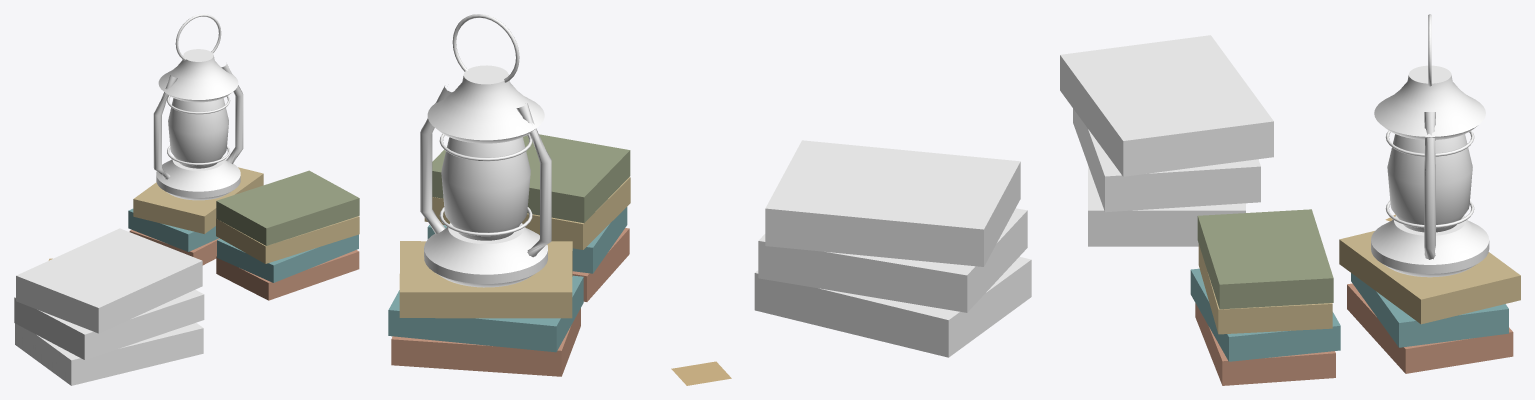
The model's file is camp_lantern_books.glb.
3 views of the same model, side by side, from view 1: azimuth 30°, elevation 25°; view 2: azimuth 150°, elevation 25°; view 3: azimuth 270°, elevation 25° (orthographic). The views are drawn at different scales.
Visible parts, largest first — view 1: camp_lantern_books__book, camp_lantern_books__book_leather, camp_lantern_books__brass, camp_lantern_books__x99ce1e; view 2: camp_lantern_books__book, camp_lantern_books__book_leather, camp_lantern_books__brass, camp_lantern_books__x99ce1e, camp_lantern_books__foliage_ivy_leaf; view 3: camp_lantern_books__book_leather, camp_lantern_books__book, camp_lantern_books__brass, camp_lantern_books__x99ce1e.
Part boxes in pixels (x1,y1,x2,y2): camp_lantern_books__book: (14,228,204,385); camp_lantern_books__book_leather: (128,167,359,300); camp_lantern_books__brass: (153,14,243,200); camp_lantern_books__x99ce1e: (168,98,228,168); camp_lantern_books__book: (754,140,1031,357); camp_lantern_books__book_leather: (388,134,630,376); camp_lantern_books__brass: (420,14,551,287); camp_lantern_books__x99ce1e: (441,137,530,240); camp_lantern_books__foliage_ivy_leaf: (671,361,731,385); camp_lantern_books__book_leather: (1190,209,1520,385); camp_lantern_books__book: (1060,35,1273,246); camp_lantern_books__brass: (1371,14,1489,277); camp_lantern_books__x99ce1e: (1387,134,1472,232).
Size of what is drawn, in the model's own units: 1.72 by 1.06 by 1.4.
